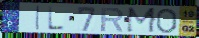7: (77, 5, 98, 33)
I: (35, 5, 42, 31)
L: (46, 6, 66, 32)
M: (125, 7, 158, 34)
O: (155, 8, 179, 35)
R: (100, 6, 126, 33)
